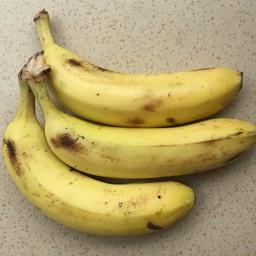Good_banana: (10, 42, 255, 127), (37, 90, 247, 180), (1, 173, 200, 239)
